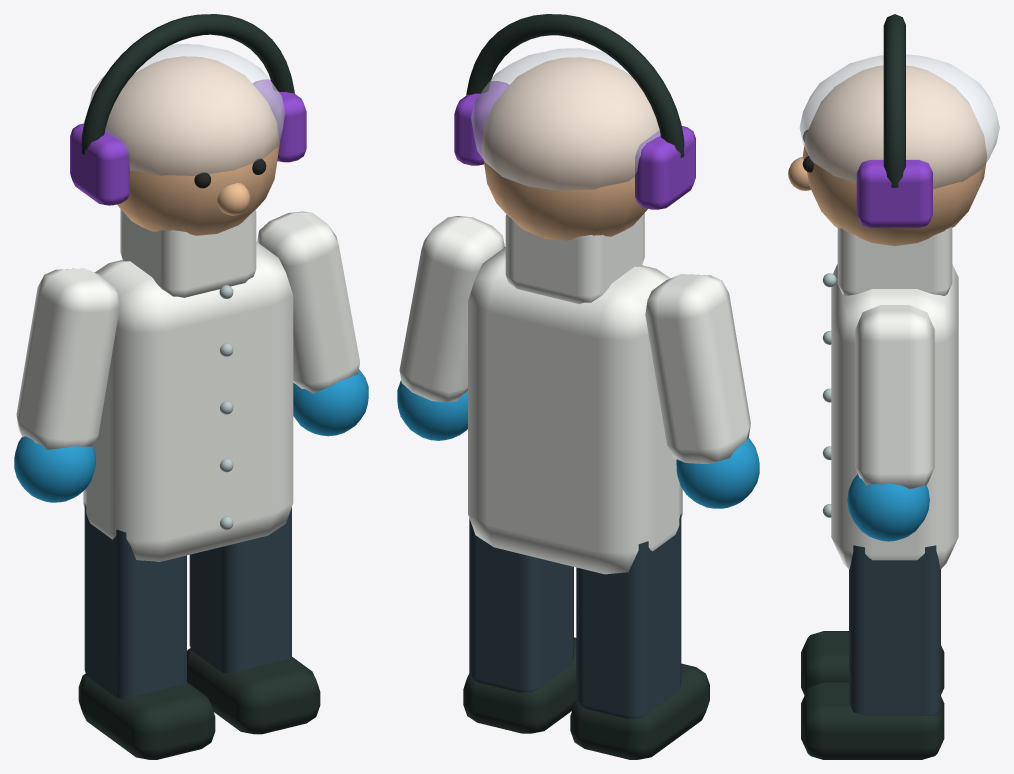
Rendered from crew-2.glb.
3 views of the same model, side by side, from view 1: azimuth 30°, elevation 25°; view 2: azimuth 150°, elevation 25°; view 3: azimuth 270°, elevation 25° (orthographic). The views are drawn at different scales.
Parts seen in each view (by area): view 1: CrewMember, ArmLeft, ArmRight; view 2: CrewMember, ArmLeft, ArmRight; view 3: CrewMember, ArmRight.
Part boxes in pixels (x1,y1,x2,y2): CrewMember: (70,14,320,759); ArmLeft: (14,268,119,502); ArmRight: (257,211,368,436); CrewMember: (454,14,709,759); ArmLeft: (645,274,759,508); ArmRight: (397,216,504,440); CrewMember: (788,14,999,759); ArmRight: (847,305,934,541).
Size of the model in its own units: 1.25 by 2.42 by 0.666.
